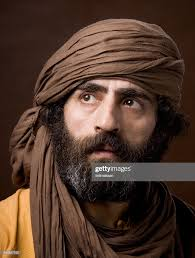middle_eastern_male: (60, 68, 170, 163)
